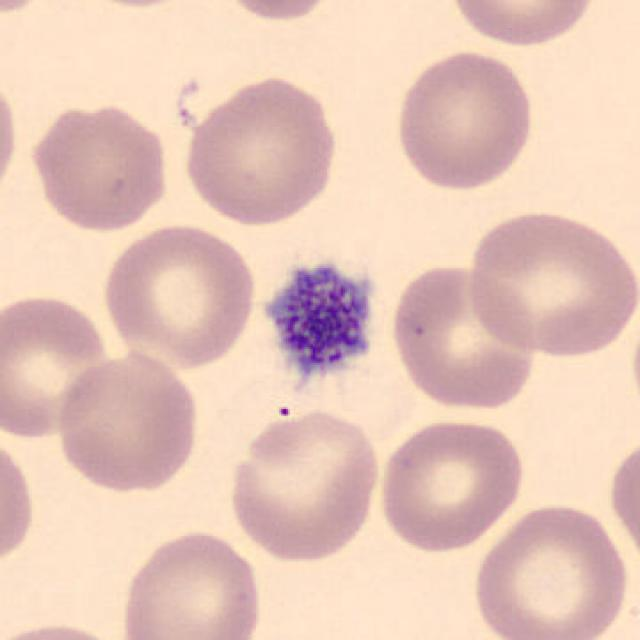Platelets: (254, 254, 382, 393)
RBC: (461, 204, 638, 360), (178, 70, 343, 228), (224, 406, 384, 564), (98, 219, 260, 370), (386, 259, 540, 413), (469, 499, 633, 640), (389, 46, 539, 194), (51, 349, 202, 496), (375, 414, 530, 556), (25, 98, 174, 234), (0, 289, 117, 442), (115, 525, 265, 640), (442, 0, 602, 49), (0, 423, 39, 580), (606, 430, 640, 570), (210, 0, 348, 25), (0, 68, 23, 204), (0, 617, 133, 640), (58, 0, 208, 12), (0, 0, 59, 18)
